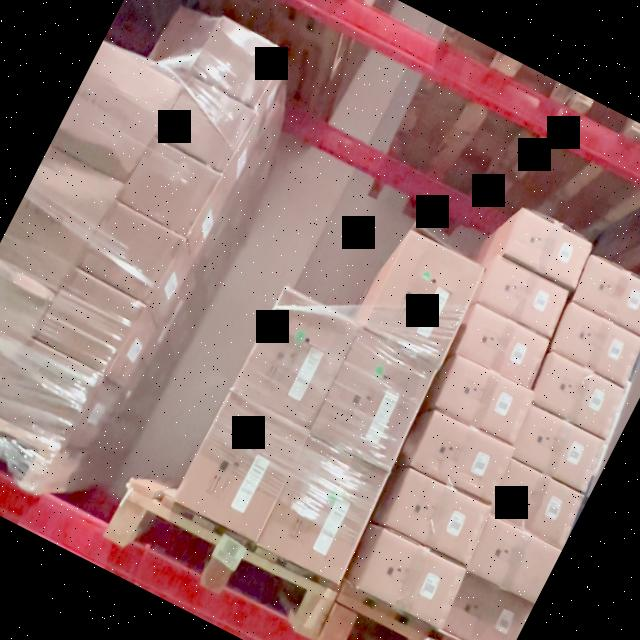box: (177, 395, 310, 541), (258, 440, 391, 584), (52, 43, 180, 182), (234, 292, 360, 430), (312, 331, 438, 468), (0, 153, 115, 287), (366, 232, 485, 360), (38, 270, 144, 376), (356, 530, 466, 626), (0, 344, 99, 449), (385, 472, 492, 564), (82, 205, 182, 302), (411, 412, 514, 503), (159, 78, 256, 171), (122, 144, 219, 236), (436, 356, 536, 444), (490, 462, 586, 548), (192, 19, 284, 107), (511, 407, 606, 491), (456, 306, 552, 388), (532, 356, 628, 438), (468, 518, 560, 602), (0, 263, 52, 409), (478, 258, 572, 338), (500, 209, 594, 289), (548, 305, 640, 386), (439, 574, 532, 640), (571, 256, 640, 334), (156, 6, 212, 70)
